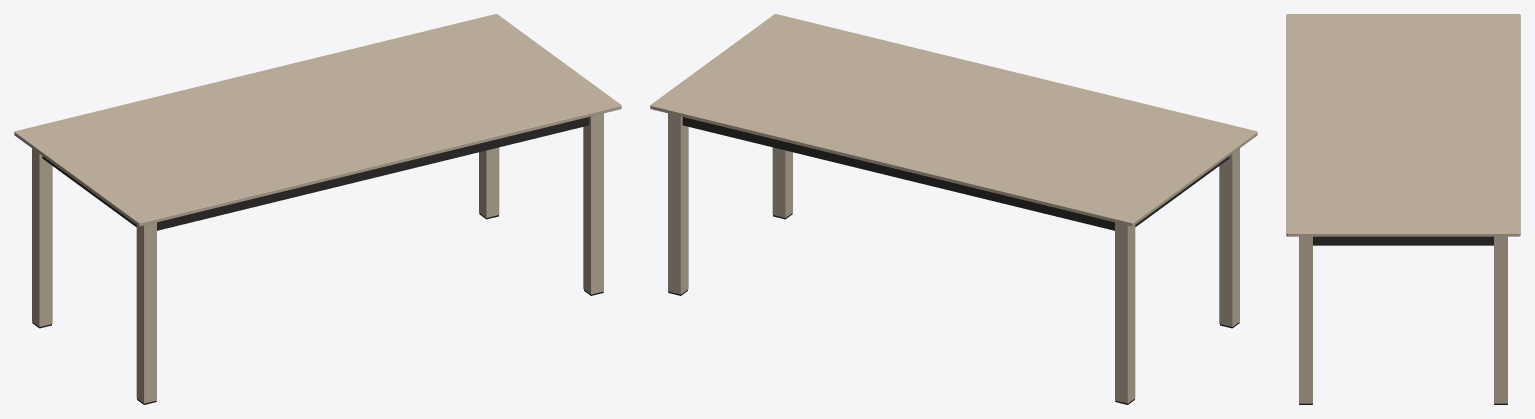
File: CUSTOM24_table_champagne_200x90.glb
3 views of the same model, side by side, from view 1: azimuth 30°, elevation 25°; view 2: azimuth 150°, elevation 25°; view 3: azimuth 270°, elevation 25° (orthographic). The views are drawn at different scales.
Parts seen in each view (by area): view 1: 01 Satin champagne top - exact 2000 x 900 mm, 11 Long charcoal apron rail, 05 Straight champagne square leg, 04 Straight champagne square leg, 02 Straight champagne square leg, 03 Straight champagne square leg; view 2: 01 Satin champagne top - exact 2000 x 900 mm, 10 Long charcoal apron rail, 02 Straight champagne square leg, 03 Straight champagne square leg, 05 Straight champagne square leg, 04 Straight champagne square leg; view 3: 01 Satin champagne top - exact 2000 x 900 mm, 03 Straight champagne square leg, 04 Straight champagne square leg, 13 Short charcoal apron rail.
Boxes of the visible parts, box(x1,y1,x2,y2) form: 01 Satin champagne top - exact 2000 x 900 mm: box(14, 14, 621, 226); 11 Long charcoal apron rail: box(157, 117, 589, 230); 05 Straight champagne square leg: box(136, 222, 156, 403); 04 Straight champagne square leg: box(583, 113, 603, 294); 02 Straight champagne square leg: box(32, 148, 52, 326); 03 Straight champagne square leg: box(479, 147, 499, 217); 01 Satin champagne top - exact 2000 x 900 mm: box(650, 14, 1257, 226); 10 Long charcoal apron rail: box(682, 117, 1114, 230); 02 Straight champagne square leg: box(1115, 222, 1135, 403); 03 Straight champagne square leg: box(668, 113, 688, 294); 05 Straight champagne square leg: box(1219, 148, 1239, 326); 04 Straight champagne square leg: box(772, 147, 792, 217); 01 Satin champagne top - exact 2000 x 900 mm: box(1286, 14, 1520, 236); 03 Straight champagne square leg: box(1494, 236, 1507, 403); 04 Straight champagne square leg: box(1299, 236, 1312, 403); 13 Short charcoal apron rail: box(1313, 236, 1493, 245).
Size of the model in its own units: 2 by 0.75 by 0.9.
